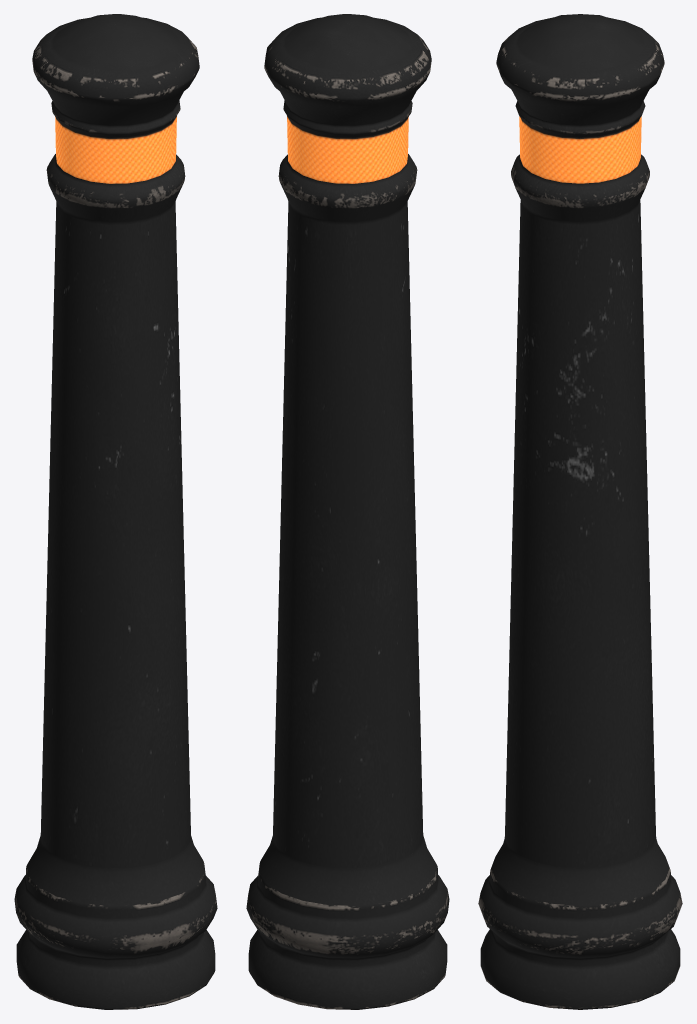
The model's file is bollard.glb.
3 renders of one model, left to right at view 1: azimuth 30°, elevation 25°; view 2: azimuth 150°, elevation 25°; view 3: azimuth 270°, elevation 25°, orthographic.
Visible parts, largest first — view 1: bollard; view 2: bollard; view 3: bollard.
Part boxes in pixels (x1,y1,x2,y2): bollard: (14, 14, 217, 1009); bollard: (246, 14, 449, 1009); bollard: (478, 14, 682, 1009).
Bounding box in the file's own units: 0.2266 × 1.16 × 0.2266.
1 material, 1 textured.
